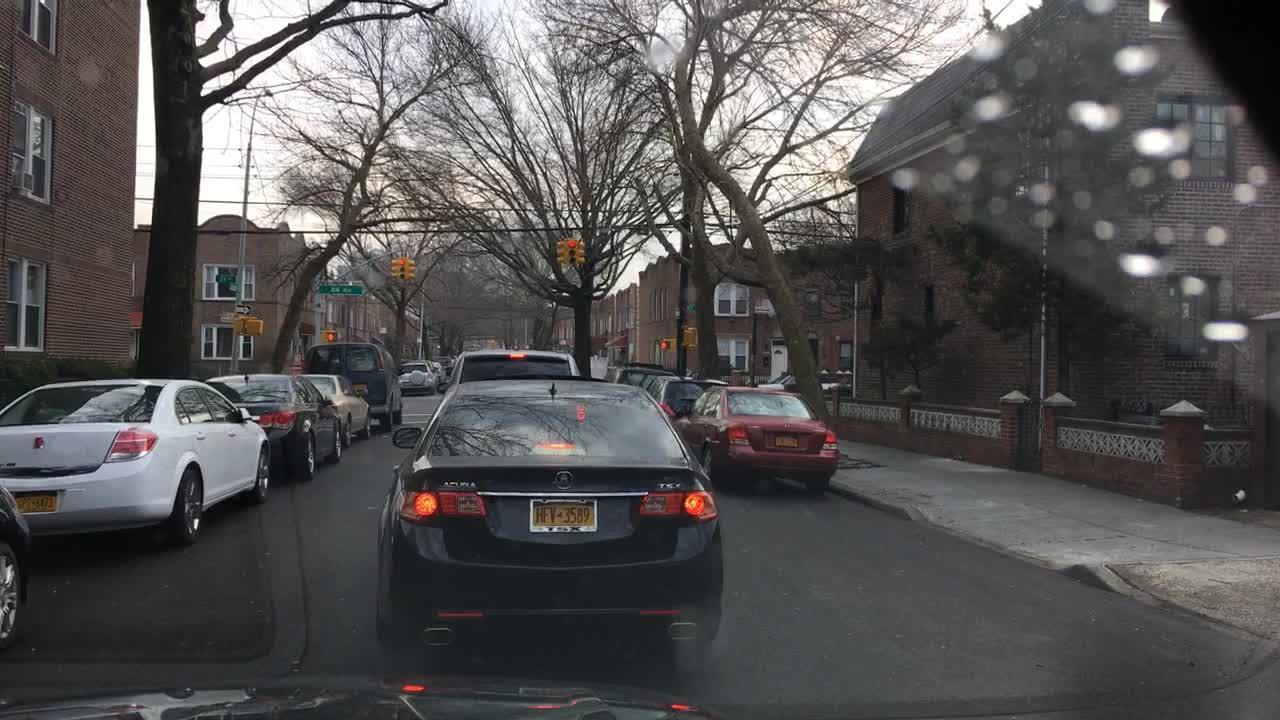acura: (548, 463, 584, 495)
